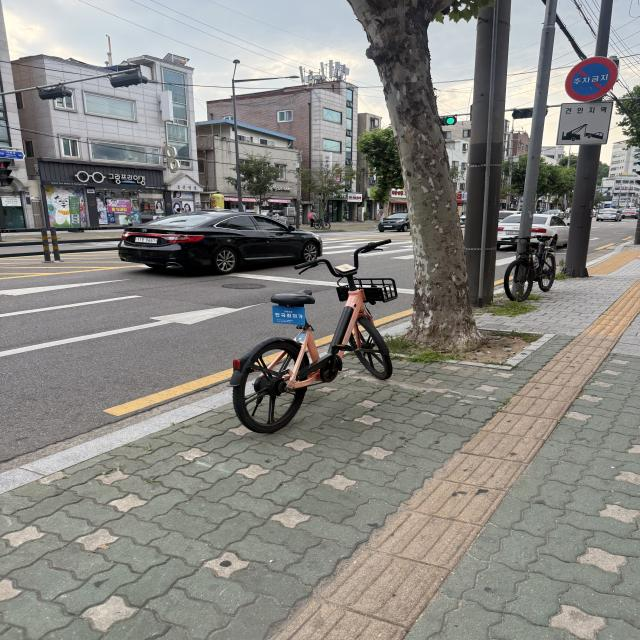bicycle: (208, 224, 424, 458), (488, 229, 576, 302)
